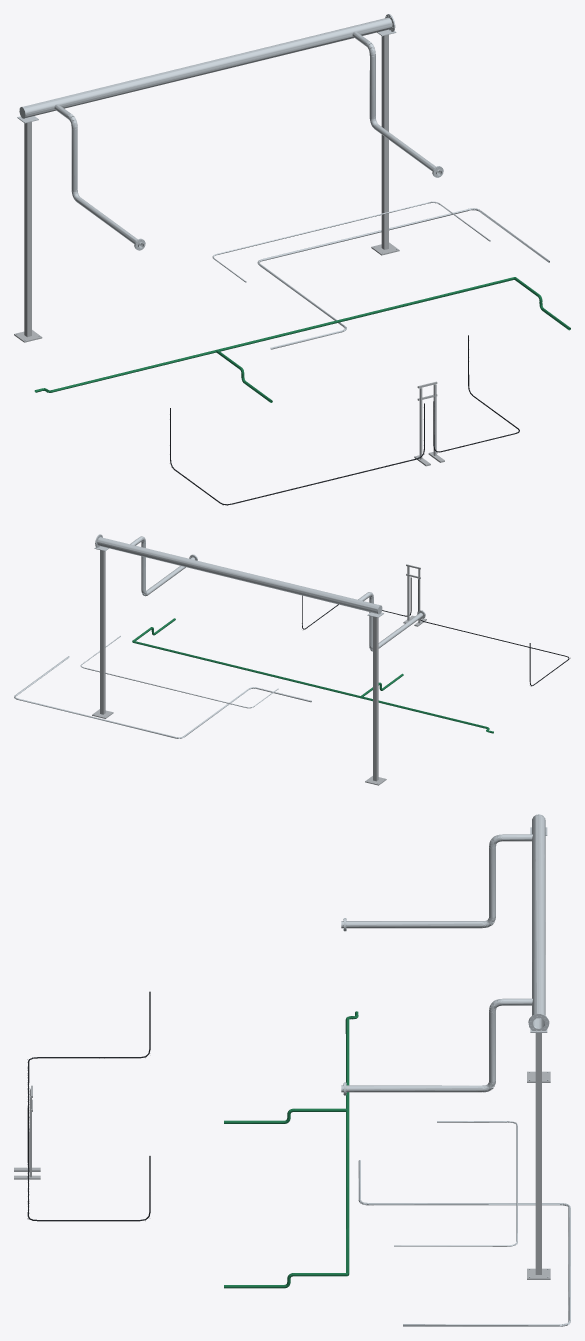
File: piping.glb
3 renders of one model, top to bottom at view 1: azimuth 30°, elevation 25°; view 2: azimuth 150°, elevation 25°; view 3: azimuth 270°, elevation 25°, orthographic. The views are drawn at different scales.
Parts seen in each view (by area): view 1: cascade_header / steel, cascade_supports / zinc, cascade_feed_header / green, cascade_bottom_2 / steel, cascade_steam_1 / steel, cascade_steam_2 / steel, cascade_tds_2 / steel, cascade_signal_1 / black; view 2: cascade_header / steel, cascade_supports / zinc, cascade_feed_header / green, cascade_bottom_2 / steel, cascade_steam_2 / steel, cascade_steam_1 / steel, cascade_signal_1 / black, cascade_tds_2 / steel; view 3: cascade_header / steel, cascade_supports / zinc, cascade_steam_2 / steel, cascade_steam_1 / steel, cascade_bottom_2 / steel, cascade_feed_header / green, cascade_tds_2 / steel.
Boxes of the visible parts, left/top/right/bottom form: cascade_header / steel: left=19, top=14, right=395, bottom=118; cascade_supports / zinc: left=14, top=34, right=444, bottom=466; cascade_feed_header / green: left=34, top=277, right=514, bottom=392; cascade_bottom_2 / steel: left=257, top=208, right=549, bottom=349; cascade_steam_1 / steel: left=54, top=104, right=145, bottom=250; cascade_steam_2 / steel: left=352, top=31, right=443, bottom=177; cascade_tds_2 / steel: left=212, top=201, right=490, bottom=282; cascade_signal_1 / black: left=170, top=403, right=424, bottom=505; cascade_header / steel: left=95, top=534, right=382, bottom=614; cascade_supports / zinc: left=92, top=550, right=426, bottom=785; cascade_feed_header / green: left=132, top=641, right=493, bottom=733; cascade_bottom_2 / steel: left=14, top=656, right=311, bottom=738; cascade_steam_2 / steel: left=130, top=536, right=197, bottom=596; cascade_steam_1 / steel: left=358, top=592, right=425, bottom=651; cascade_signal_1 / black: left=418, top=579, right=570, bottom=686; cascade_tds_2 / steel: left=80, top=635, right=278, bottom=708; cascade_header / steel: left=528, top=814, right=549, bottom=1031; cascade_supports / zinc: left=14, top=1033, right=550, bottom=1279; cascade_steam_2 / steel: left=341, top=998, right=532, bottom=1095; cascade_steam_1 / steel: left=341, top=834, right=532, bottom=931; cascade_bottom_2 / steel: left=358, top=1160, right=570, bottom=1326; cascade_feed_header / green: left=345, top=1011, right=358, bottom=1275; cascade_tds_2 / steel: left=394, top=1121, right=517, bottom=1246.
Bounding box in the file's own units: 11.32 × 4.72 × 9.03.
